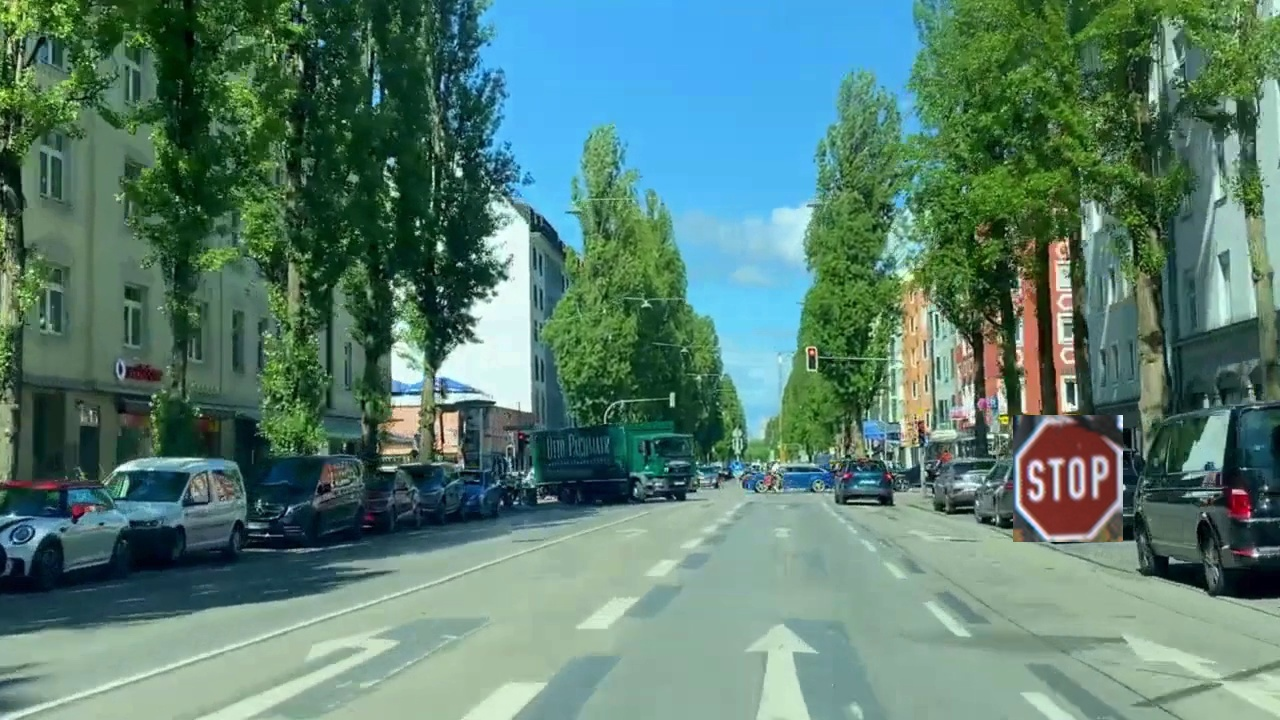Stop: (1013, 415, 1123, 542)
